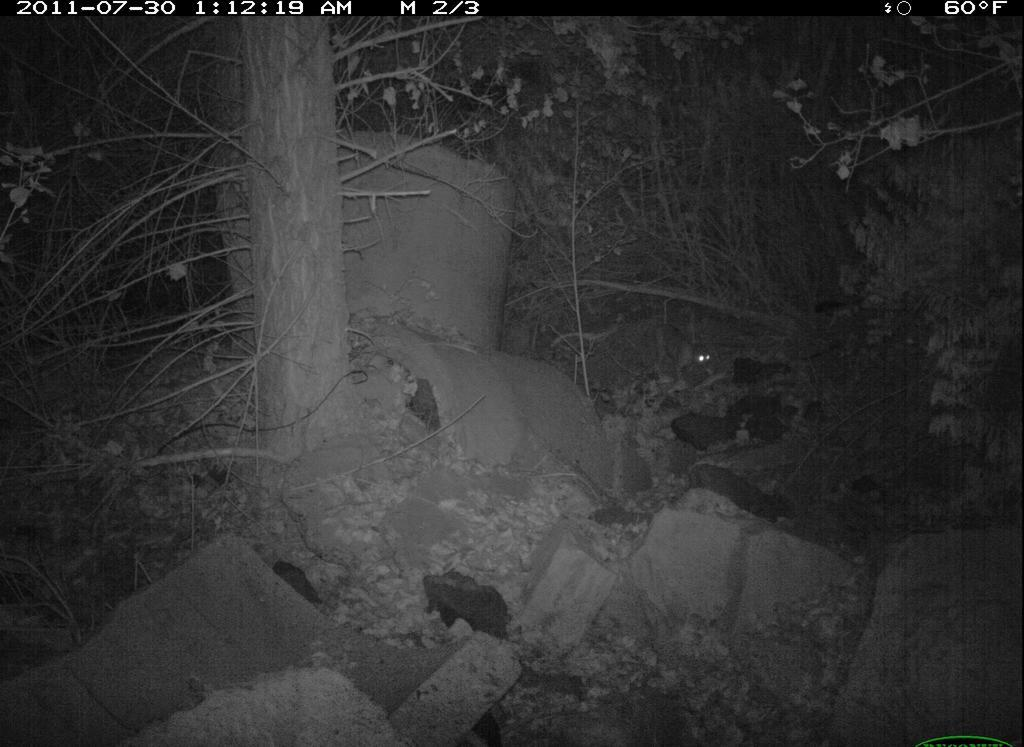bobcat: (642, 321, 716, 396)
